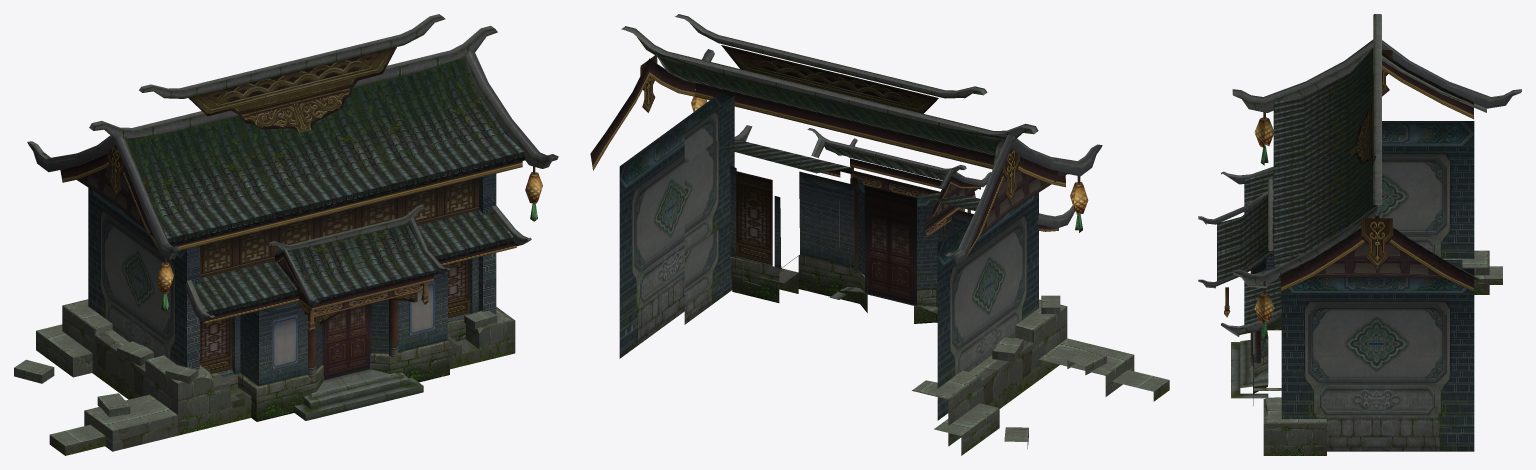
Rendered from zc_erhai_zhujian01.FBX.
3 renders of one model, left to right at view 1: azimuth 30°, elevation 25°; view 2: azimuth 150°, elevation 25°; view 3: azimuth 270°, elevation 25°, orthographic. The views are drawn at different scales.
Parts seen in each view (by area): view 1: zc_erhai_zhujian01; view 2: zc_erhai_zhujian01; view 3: zc_erhai_zhujian01.
Boxes of the visible parts, x1,y1,x2,y2 form: zc_erhai_zhujian01: (14, 14, 558, 455); zc_erhai_zhujian01: (590, 14, 1169, 455); zc_erhai_zhujian01: (1198, 14, 1521, 455).
Bounding box in the file's own units: 1287 × 764 × 765.
